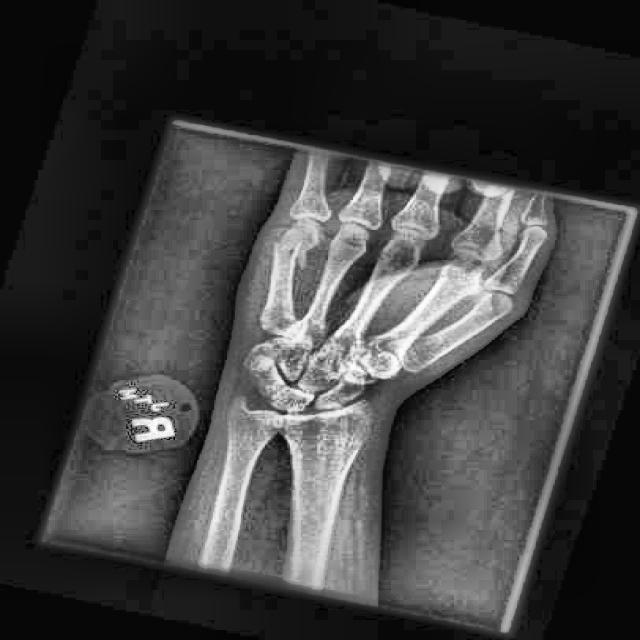wrist positive: (260, 227, 318, 278), (332, 368, 361, 401)
